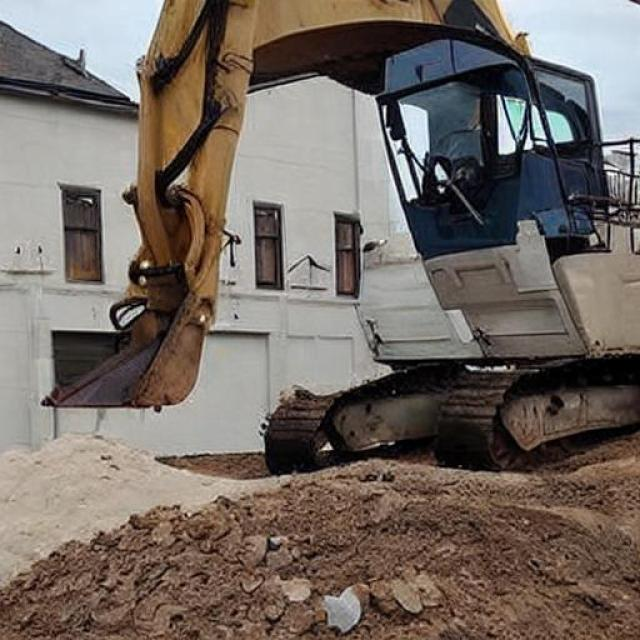excavator: (364, 297, 445, 497)
